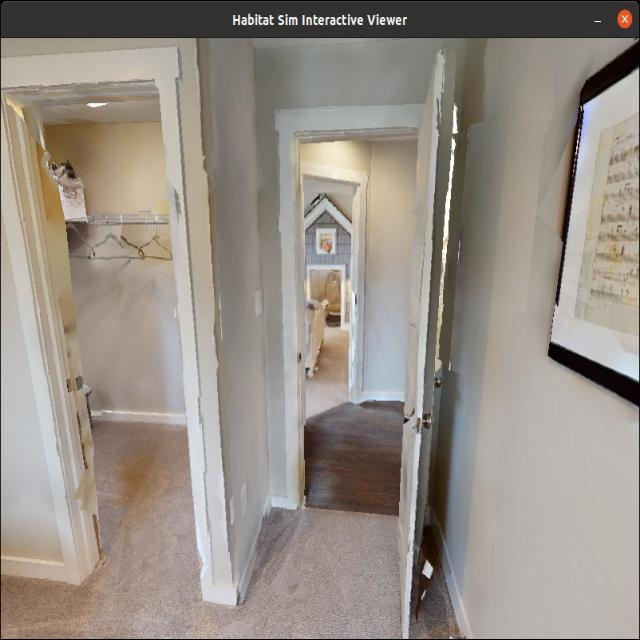door: (392, 51, 456, 638)
door-frame: (18, 55, 219, 609), (278, 113, 444, 510), (296, 165, 369, 421)
